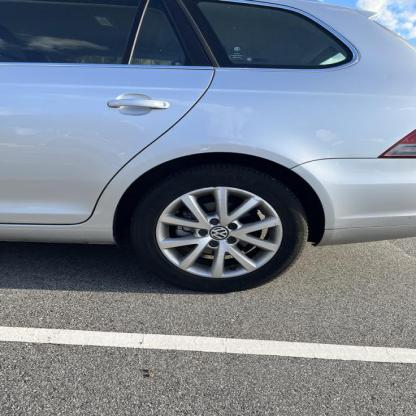Tire: (128, 167, 310, 293)
